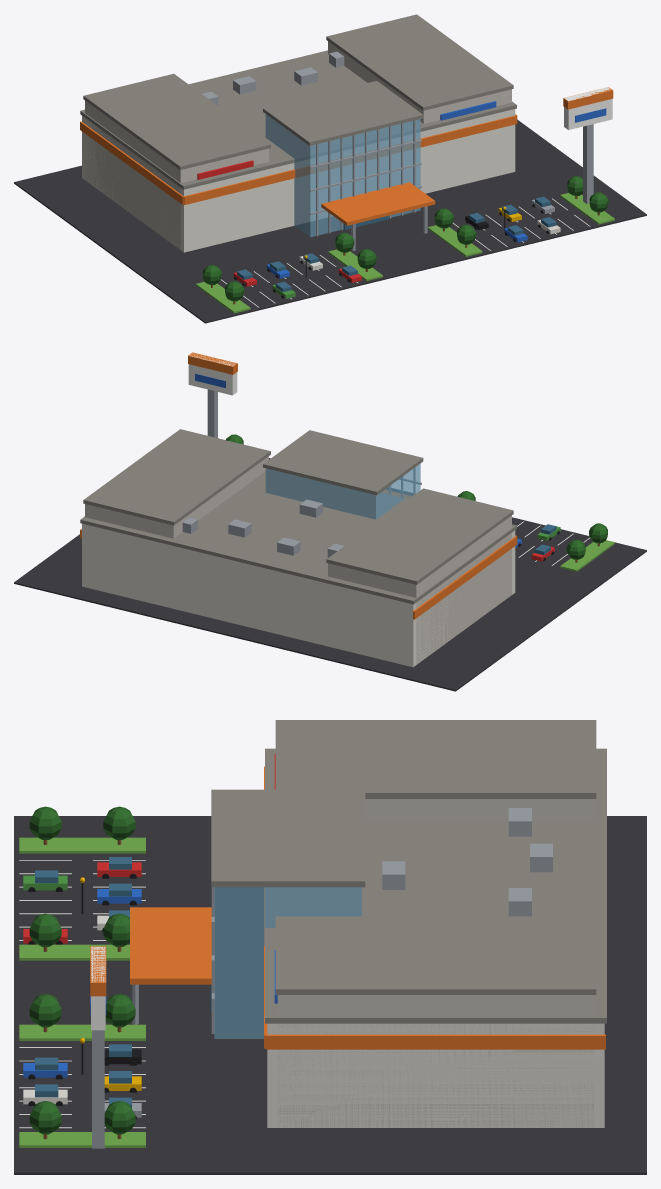
The model's file is mall.glb.
3 views of the same model, one above another, from view 1: azimuth 30°, elevation 25°; view 2: azimuth 150°, elevation 25°; view 3: azimuth 270°, elevation 25° (orthographic). The views are drawn at different scales.
Parts seen in each view (by area): view 1: mall_mat_8d8a83, mall_mat_3b3b3f, mall_mat_e6e3dc, mall_mat_c9c5bd, mall_mat_7cb8d9, mall_mat_e8782a, mall_mat_9ea4ad (×3), mall_mat_2f6b2b, mall_mat_6fae4c, mall_mat_f4f4f2, mall_mat_3f6f8c, mall_mat_2f6fd1 (+1 smaller); view 2: mall_mat_8d8a83, mall_mat_e6e3dc, mall_mat_3b3b3f, mall_mat_c9c5bd, mall_mat_7cb8d9, mall_mat_9ea4ad (×2), mall_mat_e8782a, mall_mat_f4f4f2, mall_mat_2f6b2b, mall_mat_6fae4c; view 3: mall_mat_8d8a83, mall_mat_3b3b3f, mall_mat_e6e3dc, mall_mat_c9c5bd, mall_mat_e8782a, mall_mat_7cb8d9, mall_mat_6fae4c, mall_mat_2f6b2b, mall_mat_9ea4ad (×3), mall_mat_3f6f8c, mall_mat_f4f4f2, mall_mat_2f6fd1 (+2 smaller).
Boxes of the visible parts, x1,y1,x2,y2 form: mall_mat_8d8a83: (80, 14, 516, 189); mall_mat_3b3b3f: (14, 119, 646, 323); mall_mat_e6e3dc: (82, 109, 560, 270); mall_mat_c9c5bd: (85, 41, 511, 249); mall_mat_7cb8d9: (265, 114, 420, 237); mall_mat_e8782a: (80, 87, 613, 225); mall_mat_9ea4ad (×3): (202, 51, 593, 250); mall_mat_2f6b2b: (202, 176, 608, 301); mall_mat_6fae4c: (195, 193, 614, 313); mall_mat_f4f4f2: (220, 87, 612, 307); mall_mat_3f6f8c: (237, 196, 556, 292); mall_mat_2f6fd1: (266, 101, 606, 278); mall_mat_8d8a83: (80, 429, 516, 604); mall_mat_e6e3dc: (82, 523, 515, 667); mall_mat_3b3b3f: (14, 458, 646, 691); mall_mat_c9c5bd: (85, 456, 511, 664); mall_mat_7cb8d9: (265, 463, 420, 519); mall_mat_9ea4ad (×2): (182, 389, 343, 557); mall_mat_e8782a: (80, 352, 517, 619); mall_mat_f4f4f2: (188, 353, 589, 565); mall_mat_2f6b2b: (226, 434, 607, 559); mall_mat_6fae4c: (560, 540, 614, 571); mall_mat_8d8a83: (211, 720, 606, 1023); mall_mat_3b3b3f: (14, 816, 646, 1174); mall_mat_e6e3dc: (23, 915, 604, 1127); mall_mat_c9c5bd: (277, 799, 594, 1127); mall_mat_e8782a: (90, 766, 605, 1049); mall_mat_7cb8d9: (214, 887, 361, 1038); mall_mat_6fae4c: (19, 837, 145, 1147); mall_mat_2f6b2b: (29, 806, 135, 1134); mall_mat_9ea4ad (×3): (92, 808, 552, 1148); mall_mat_3f6f8c: (35, 857, 131, 1107); mall_mat_f4f4f2: (19, 860, 145, 1128); mall_mat_2f6fd1: (23, 889, 277, 1077).
Size of the model in its own units: 80 by 19.2 by 60.
